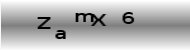6: (121, 11, 136, 25)
X: (91, 12, 106, 27)
Z: (36, 16, 52, 30)
a: (54, 29, 67, 40)
m: (74, 12, 94, 22)
